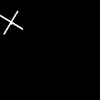single_crochet: (0, 11, 22, 33)
